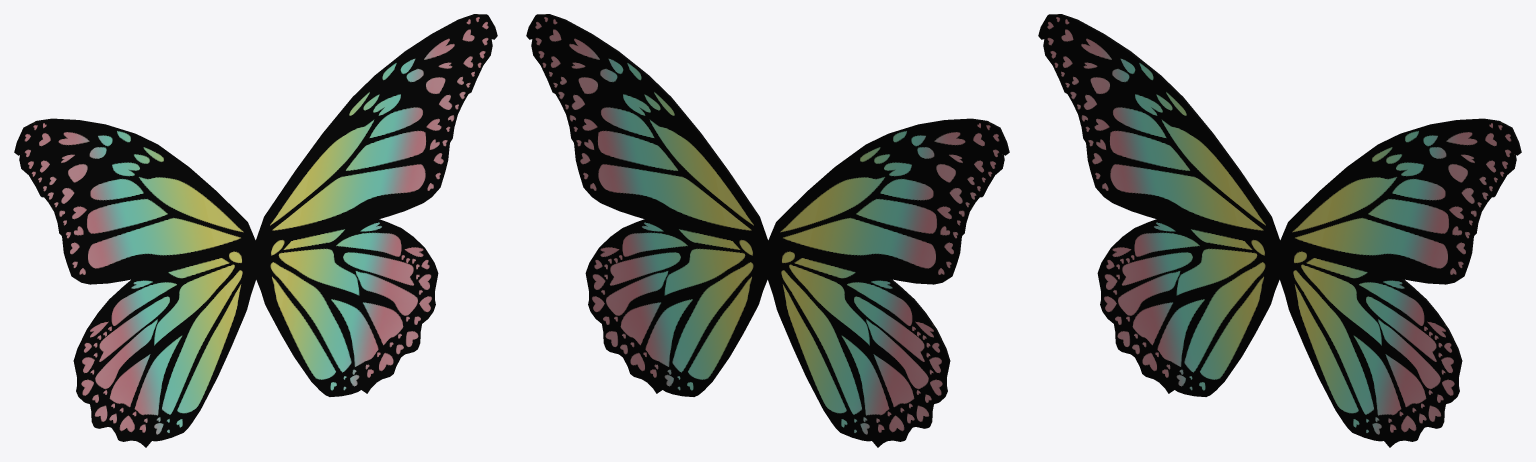
File: chouchou.fbx
The picture shows the model from 3 angles, left to right: view 1: azimuth 30°, elevation 25°; view 2: azimuth 150°, elevation 25°; view 3: azimuth 330°, elevation 25°; orthographic projection.
Parts seen in each view (by area): view 1: chouchou_R, chouchou_L; view 2: chouchou_R, chouchou_L; view 3: chouchou_L, chouchou_R.
Part boxes in pixels (box(x1,y1,x2,y2)): chouchou_R: box(255, 14, 497, 396); chouchou_L: box(14, 118, 256, 447); chouchou_R: box(526, 14, 768, 396); chouchou_L: box(767, 118, 1009, 447); chouchou_L: box(1038, 14, 1280, 396); chouchou_R: box(1279, 118, 1521, 447).
Size of the model in its own units: 11.89 by 8.31 by 0.0578.
